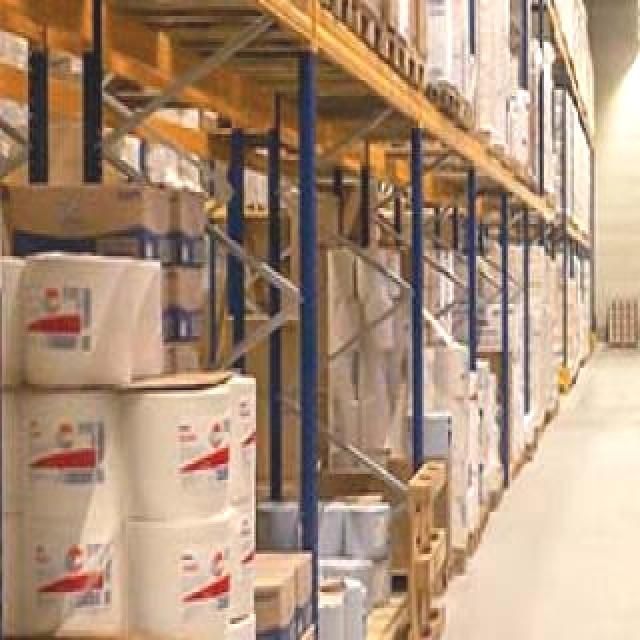fluorescent tube: (634, 0, 640, 12)
